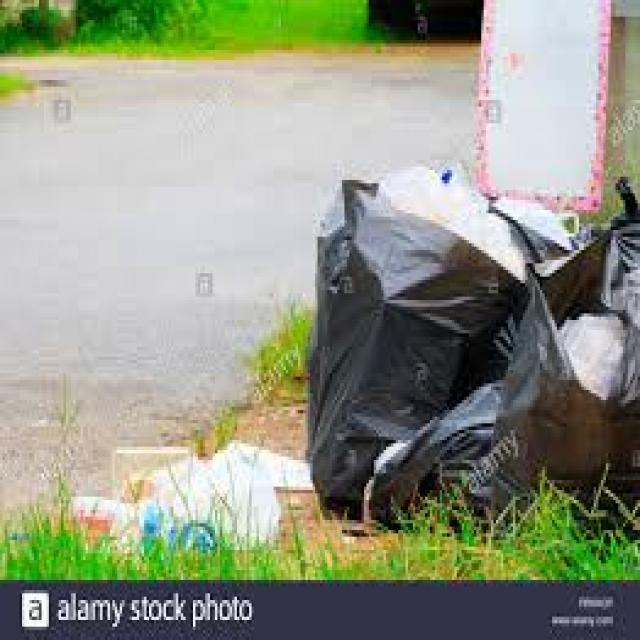plastic_bag: (314, 185, 490, 485), (523, 230, 640, 474), (382, 394, 521, 538)
